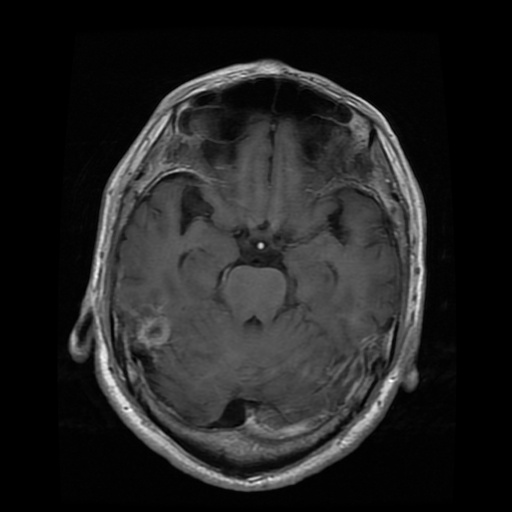glioma: (132, 305, 173, 351)
